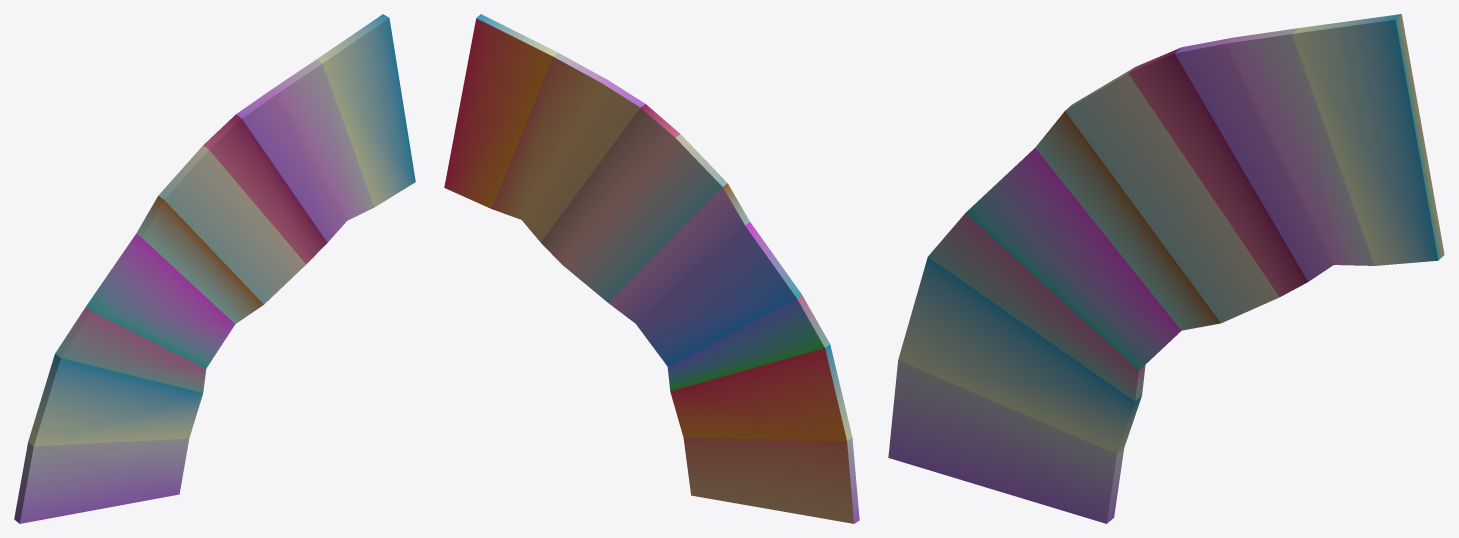
The model's file is Dock_CurveA_lod1.glb.
3 views of the same model, side by side, from view 1: azimuth 30°, elevation 25°; view 2: azimuth 150°, elevation 25°; view 3: azimuth 330°, elevation 25° (orthographic). The views are drawn at different scales.
Visible parts, largest first — view 1: MeshNode_0; view 2: MeshNode_0; view 3: MeshNode_0.
Part boxes in pixels (box(x1,y1,x2,y2)): MeshNode_0: box(14, 14, 415, 523); MeshNode_0: box(444, 14, 859, 523); MeshNode_0: box(888, 14, 1444, 523).
Size of the model in its own units: 41.43 by 41.75 by 3.29.
